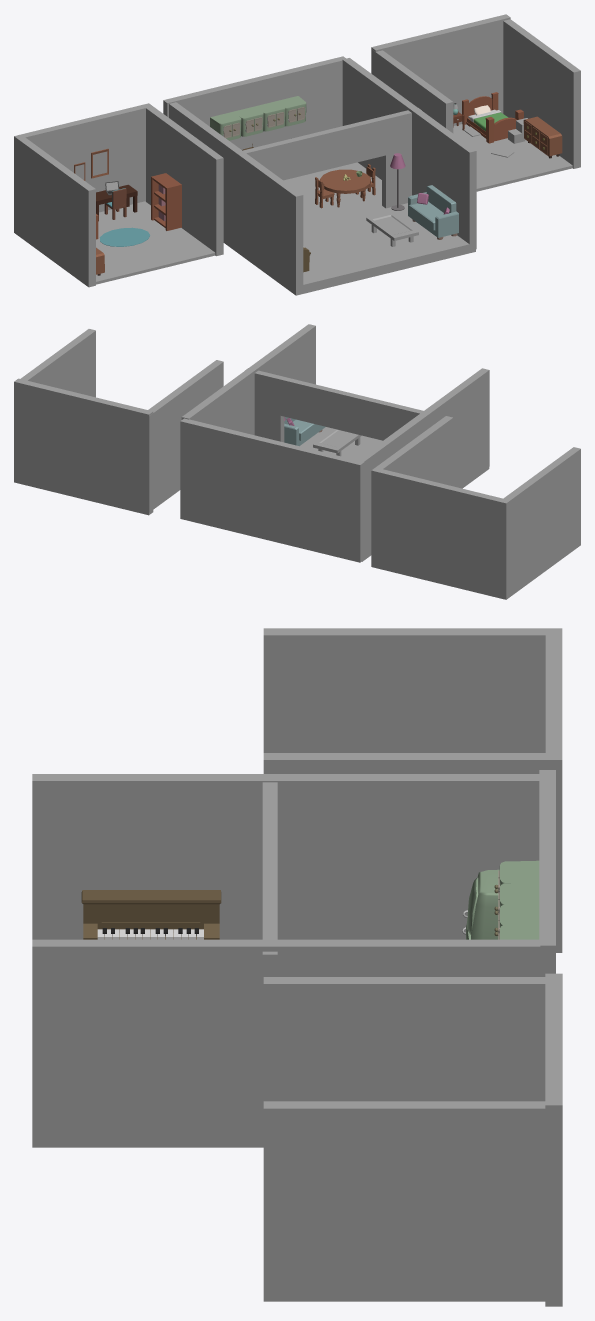
The model's file is Steve andbrad.fbx.
3 views of the same model, one above another, from view 1: azimuth 30°, elevation 25°; view 2: azimuth 150°, elevation 25°; view 3: azimuth 270°, elevation 25° (orthographic). The views are drawn at different scales.
Parts seen in each view (by area): view 1: pCube1, pCube2, pCube8, pCube3, pCube5, pCube4, pCube12, pCube11, pCube7, pCube9, pCube6, pCube10 (+15 smaller); view 2: pCube4, pCube12, pCube9, pCube8, pCube5, pCube2, pCube3, pCube13, pCube7, pCube11, pCube1, pasted__pCube86 (+1 smaller); view 3: pCube2, pCube3, pCube11, pCube8, pCube13, pCube7, pasted__pCube79, pCube12, pCube4, pCube5, pCube9, pasted__polySurface12 (+4 smaller).
Boxes of the visible parts, x1,y1,x2,y2 form: pCube1: [223, 162, 475, 295]; pCube2: [169, 102, 303, 292]; pCube8: [14, 134, 95, 287]; pCube3: [342, 58, 476, 249]; pCube5: [243, 108, 421, 208]; pCube4: [163, 56, 345, 149]; pCube12: [371, 14, 510, 125]; pCube11: [503, 19, 580, 168]; pCube7: [146, 103, 223, 256]; pCube9: [17, 104, 149, 212]; pCube6: [96, 201, 215, 284]; pCube10: [453, 124, 572, 191]; pCube4: [180, 418, 364, 562]; pCube12: [14, 378, 153, 515]; pCube9: [374, 468, 503, 598]; pCube8: [499, 447, 580, 599]; pCube5: [245, 368, 423, 442]; pCube2: [357, 368, 489, 557]; pCube3: [181, 324, 315, 435]; pCube13: [148, 360, 223, 512]; pCube7: [371, 416, 453, 567]; pCube11: [20, 329, 95, 397]; pCube1: [300, 427, 489, 561]; pasted__pCube86: [284, 417, 325, 446]; pCube2: [32, 774, 539, 939]; pCube3: [32, 939, 540, 1143]; pCube11: [263, 1101, 545, 1301]; pCube8: [263, 628, 562, 752]; pCube13: [263, 977, 545, 1101]; pCube7: [263, 753, 562, 952]; pasted__pCube79: [81, 890, 221, 939]; pCube12: [545, 973, 562, 1306]; pCube4: [539, 770, 555, 976]; pCube5: [262, 782, 277, 1136]; pCube9: [545, 631, 562, 755]; pasted__polySurface12: [462, 869, 499, 939].
Bounding box in the file's own units: 17.98 × 3.52 × 8.39.
